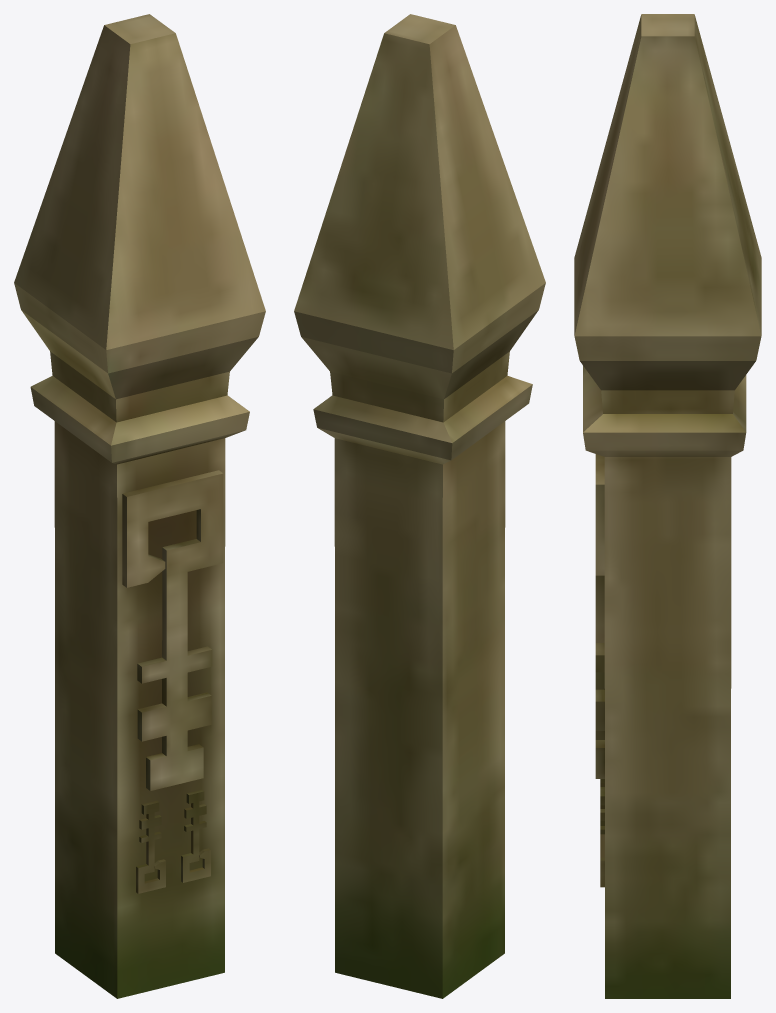
The model's file is aztec-pillar.lod0.glb.
The picture shows the model from 3 angles, left to right: view 1: azimuth 30°, elevation 25°; view 2: azimuth 150°, elevation 25°; view 3: azimuth 270°, elevation 25°; orthographic projection.
Visible parts, largest first — view 1: Pillars Walk Way_Atlas Material_0; view 2: Pillars Walk Way_Atlas Material_0; view 3: Pillars Walk Way_Atlas Material_0.
Part boxes in pixels (x1,y1,x2,y2): Pillars Walk Way_Atlas Material_0: [14, 14, 265, 998]; Pillars Walk Way_Atlas Material_0: [294, 14, 545, 998]; Pillars Walk Way_Atlas Material_0: [574, 14, 761, 998].
Size of the model in its own units: 0.8053 by 4.5 by 0.8053.
1 material, 1 textured.
